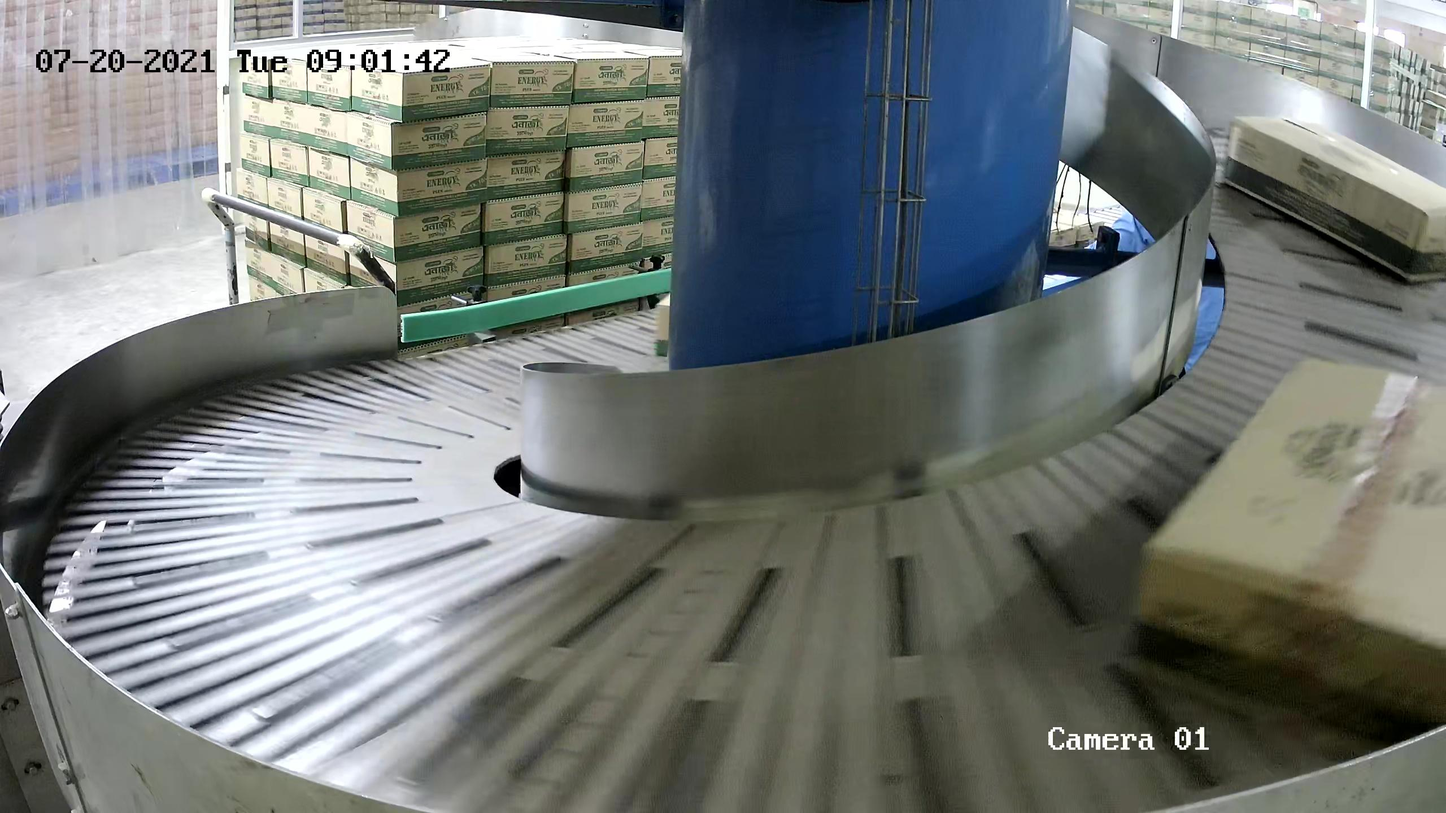Box: (1119, 351, 1446, 751), (1222, 112, 1446, 285)
